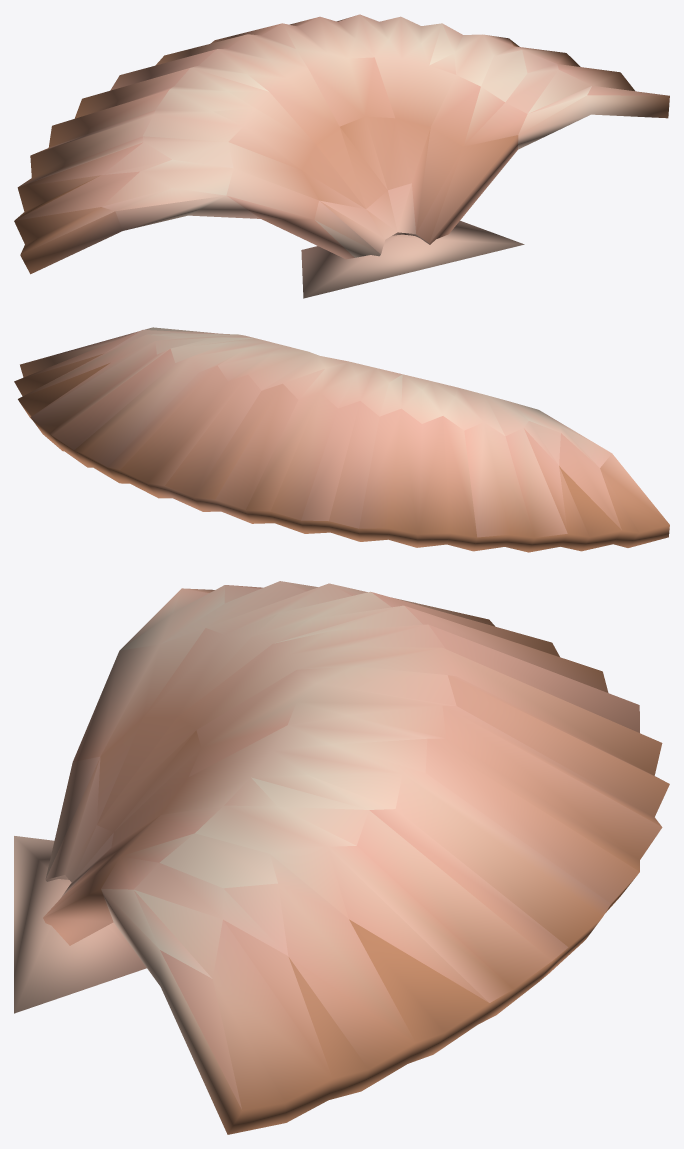
The model's file is shore_scallop_lod2.glb.
3 renders of one model, top to bottom at view 1: azimuth 30°, elevation 25°; view 2: azimuth 150°, elevation 25°; view 3: azimuth 270°, elevation 25°, orthographic. The views are drawn at different scales.
Parts seen in each view (by area): view 1: shore_scallop.001; view 2: shore_scallop.001; view 3: shore_scallop.001.
Part boxes in pixels (box(x1,y1,x2,y2)): shore_scallop.001: box(14, 14, 669, 298); shore_scallop.001: box(14, 327, 669, 552); shore_scallop.001: box(14, 581, 669, 1134).
Size of the model in its own units: 7.97 by 1.78 by 4.24.
